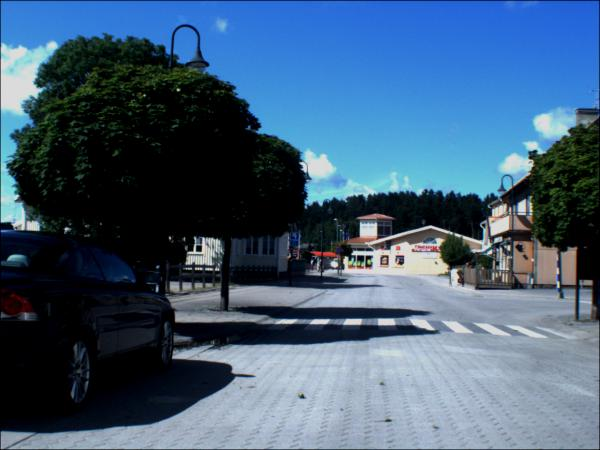NO_PARKING: (335, 246, 343, 255)
PEDESTRIAN_CROSSING: (123, 223, 163, 263)
